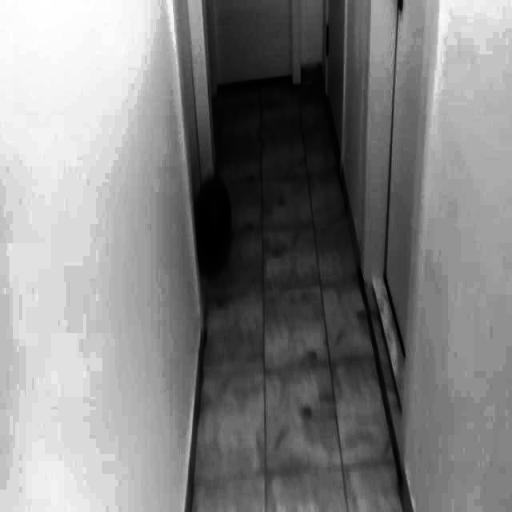balloon: (193, 171, 233, 271)
